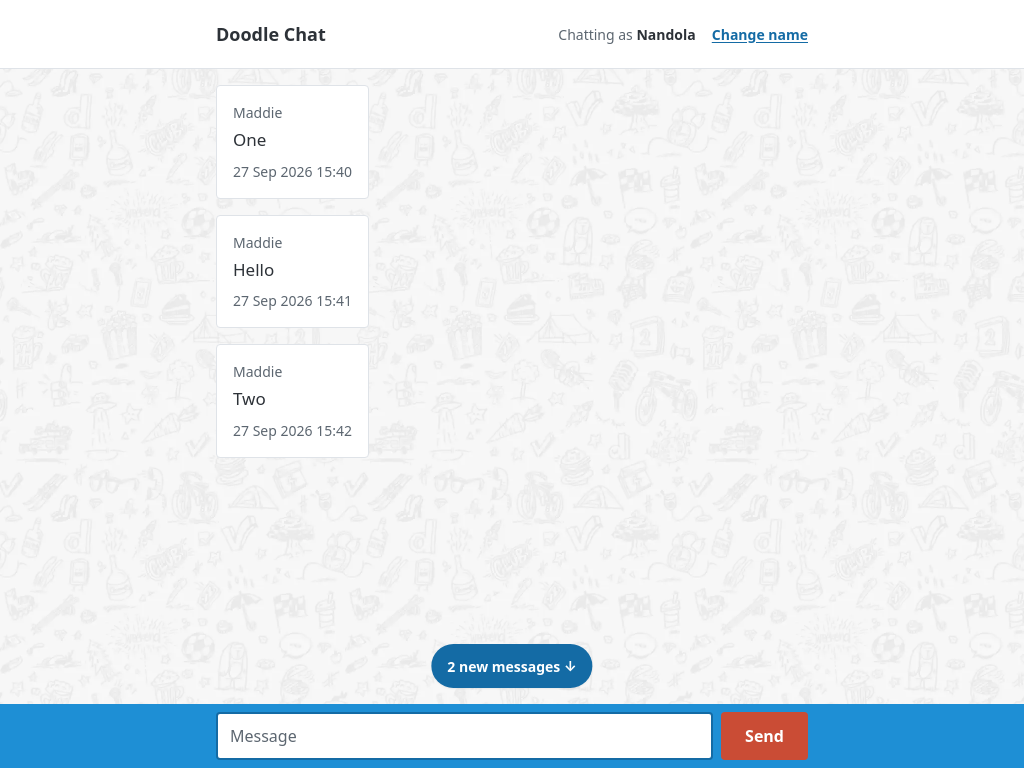
Scenario: ChatPage live updates › counts late and newer arrivals while scrolled up and offers a button to jump down
The width and height of the screenshot is (1024, 768).
(page scrolled)
Step 1. Click the button "2 new messages ↓" → (512,666), box [431, 644, 593, 688]
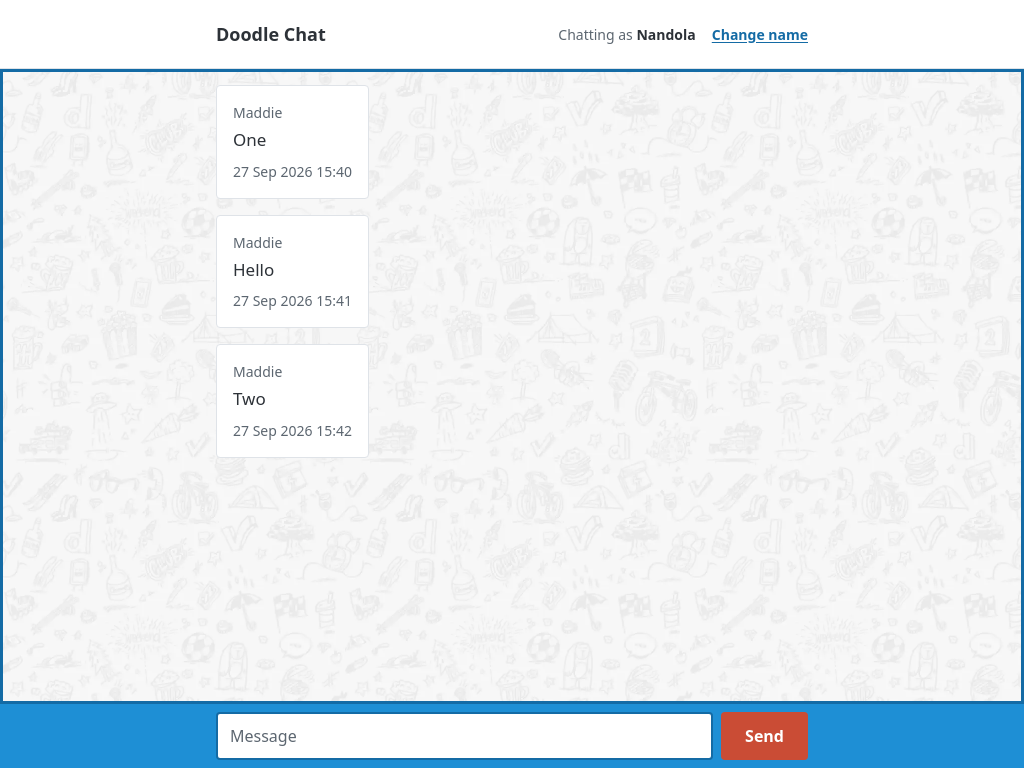
Result: the button "new message" is gone
